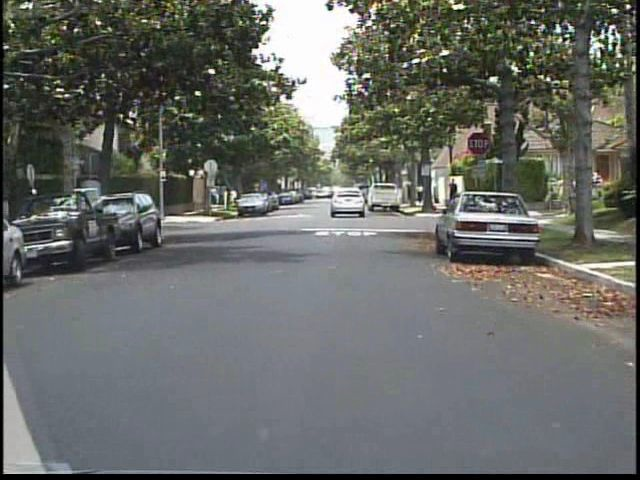person: (0, 184, 22, 223), (445, 176, 462, 213), (416, 179, 427, 205)
